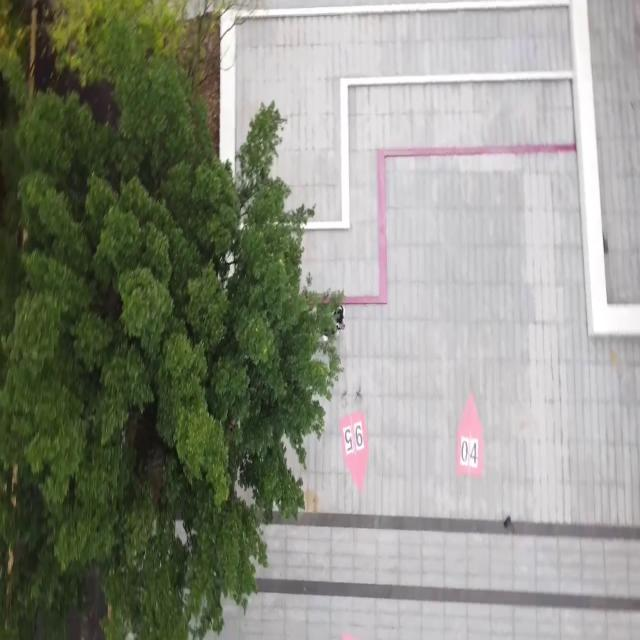-sign-: (456, 391, 485, 480), (340, 408, 369, 494)
